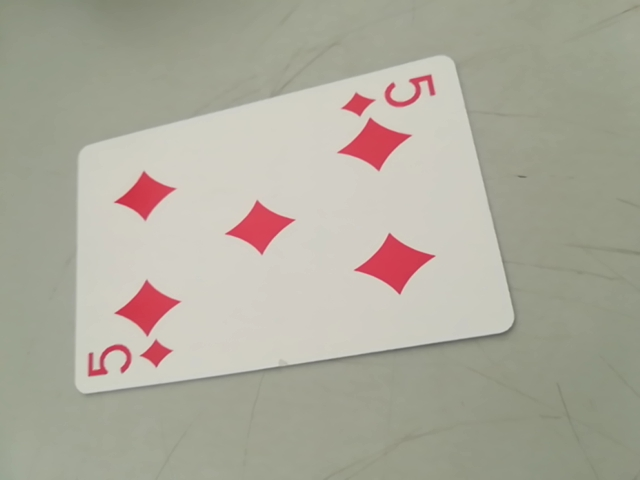fk 5: (82, 333, 181, 389), (343, 70, 444, 118)
